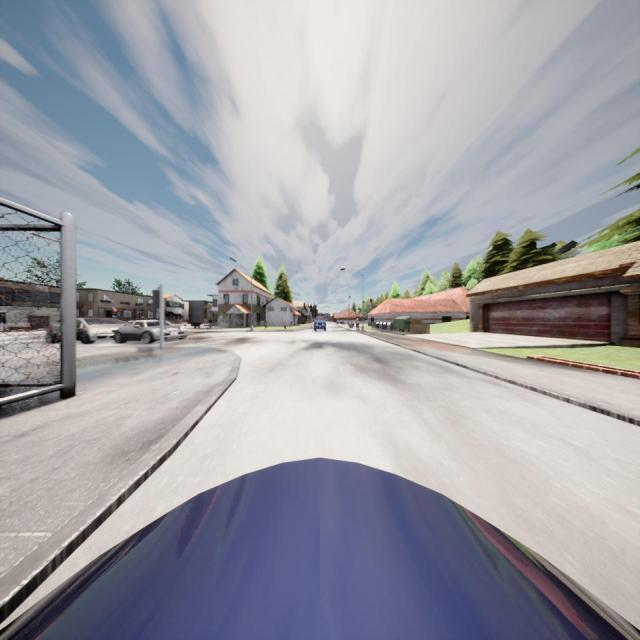Pedestrian: (356, 316, 359, 330), (264, 320, 267, 329), (284, 325, 286, 329)
Vehicle: (1, 459, 640, 639), (48, 318, 114, 344), (115, 321, 186, 342), (314, 317, 326, 331)
traffic_light: (153, 290, 159, 309), (113, 309, 117, 316)
